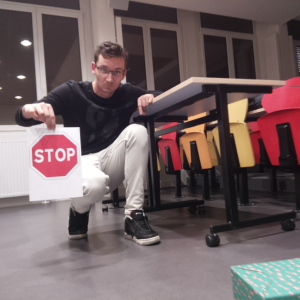stop: (31, 132, 80, 179)
